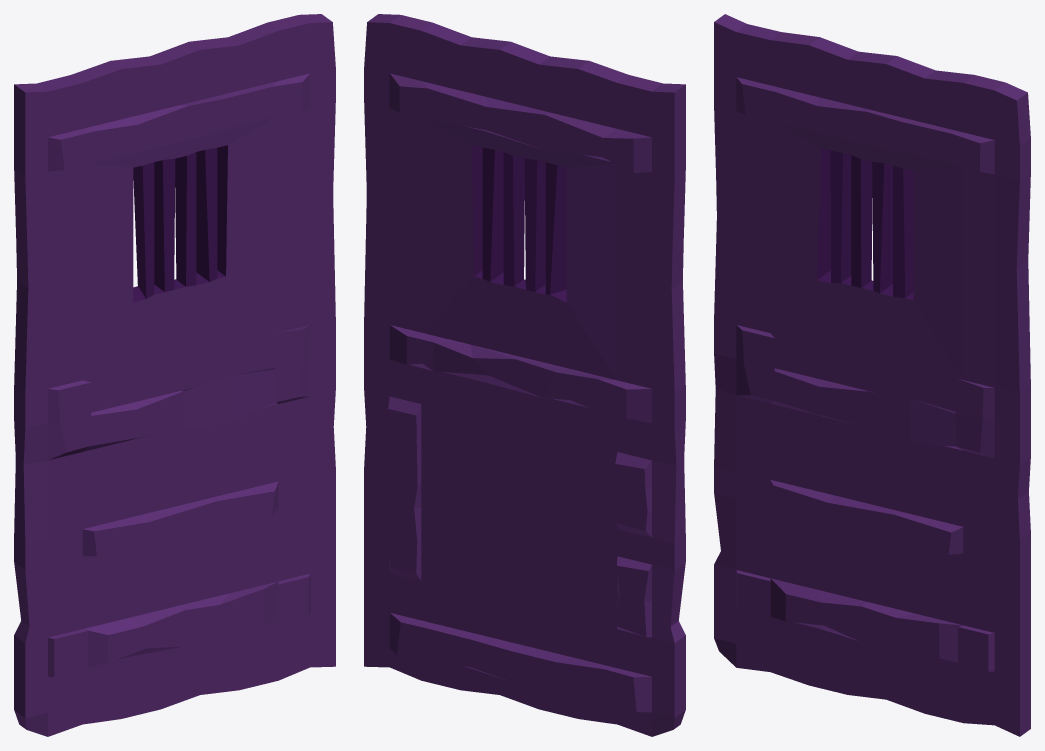
Rendered from DoorGameOff2024.fbx.
3 renders of one model, left to right at view 1: azimuth 30°, elevation 25°; view 2: azimuth 150°, elevation 25°; view 3: azimuth 330°, elevation 25°, orthographic.
Parts seen in each view (by area): view 1: Cube; view 2: Cube; view 3: Cube.
Boxes of the visible parts, x1,y1,x2,y2 form: Cube: (14, 14, 335, 736); Cube: (364, 14, 685, 736); Cube: (714, 14, 1030, 736).
Bounding box in the file's own units: 2 × 0.2423 × 4.
